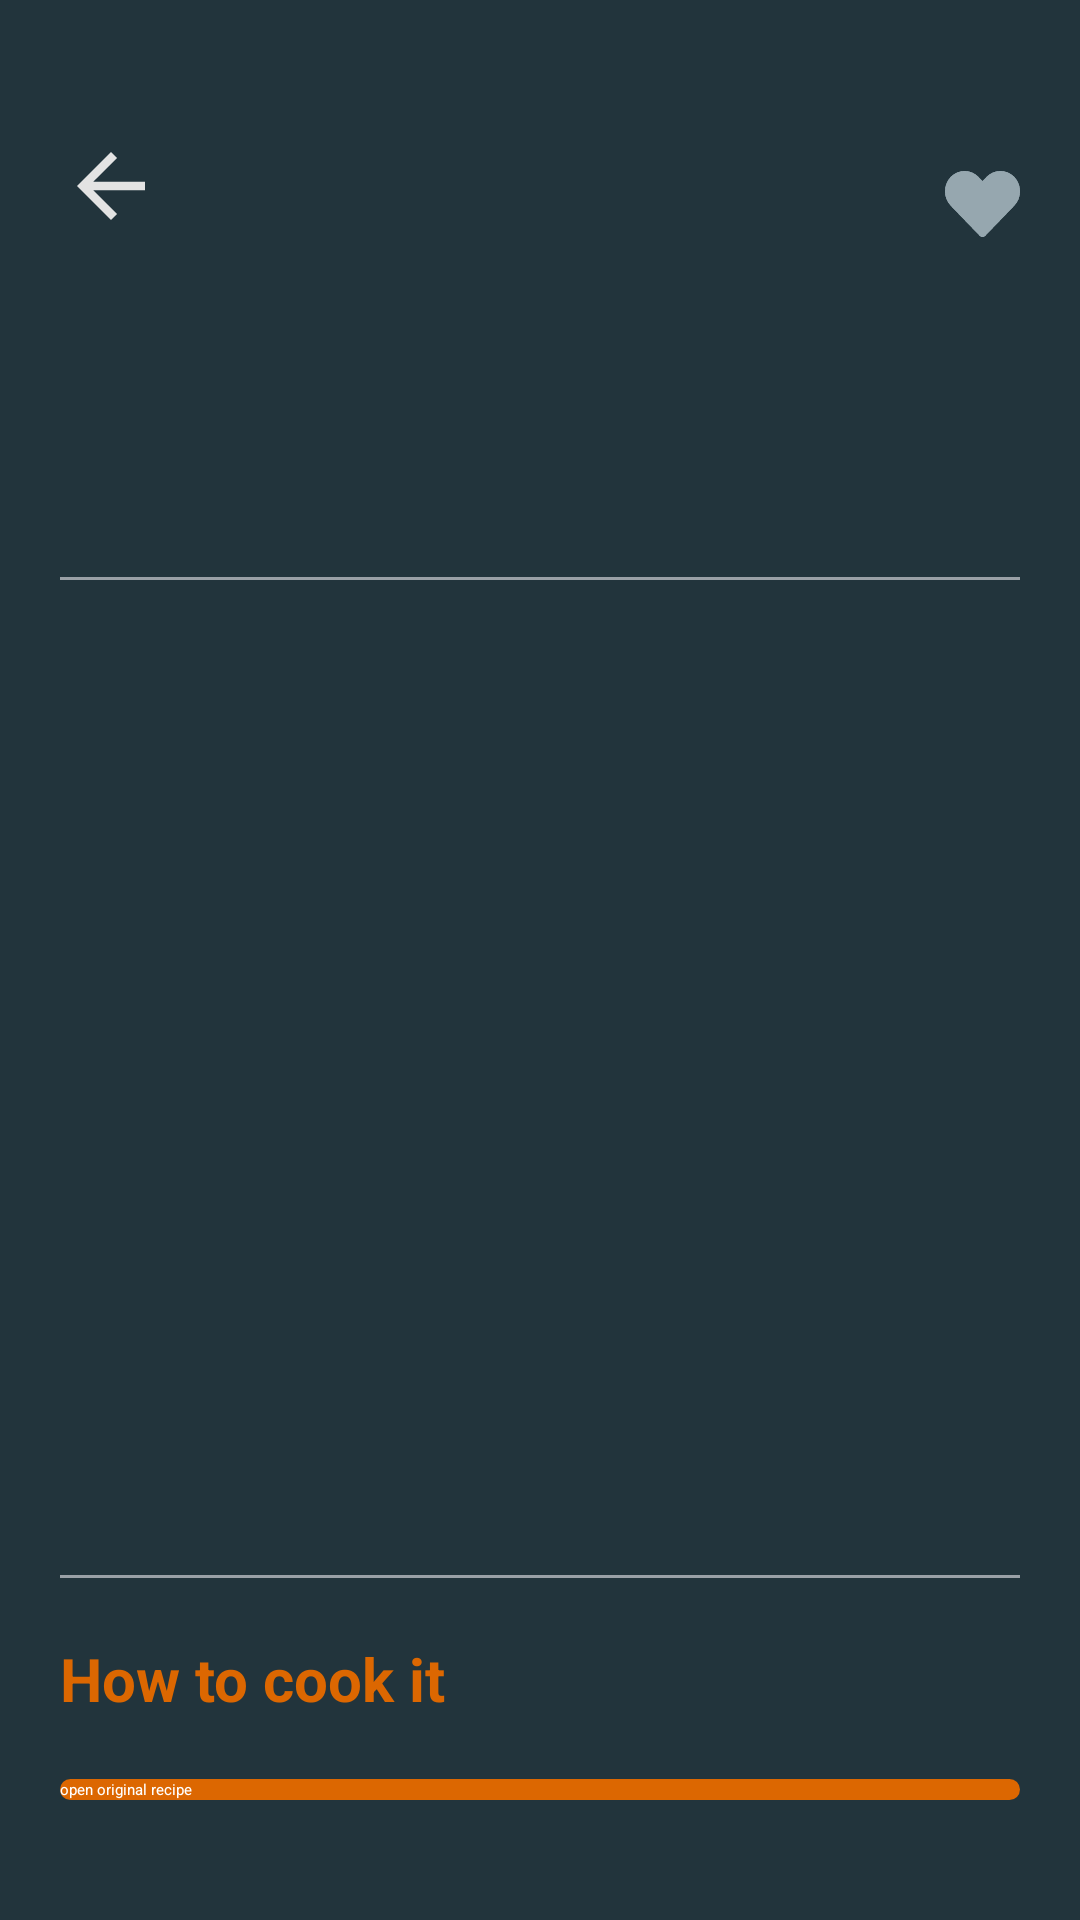

Named icons in this screenshot (1080px x 1920px) and their bounding boxes, (x1, y1, x2, y2):
arrow back: (77, 152, 145, 220)
favourite: (945, 171, 1020, 237)
